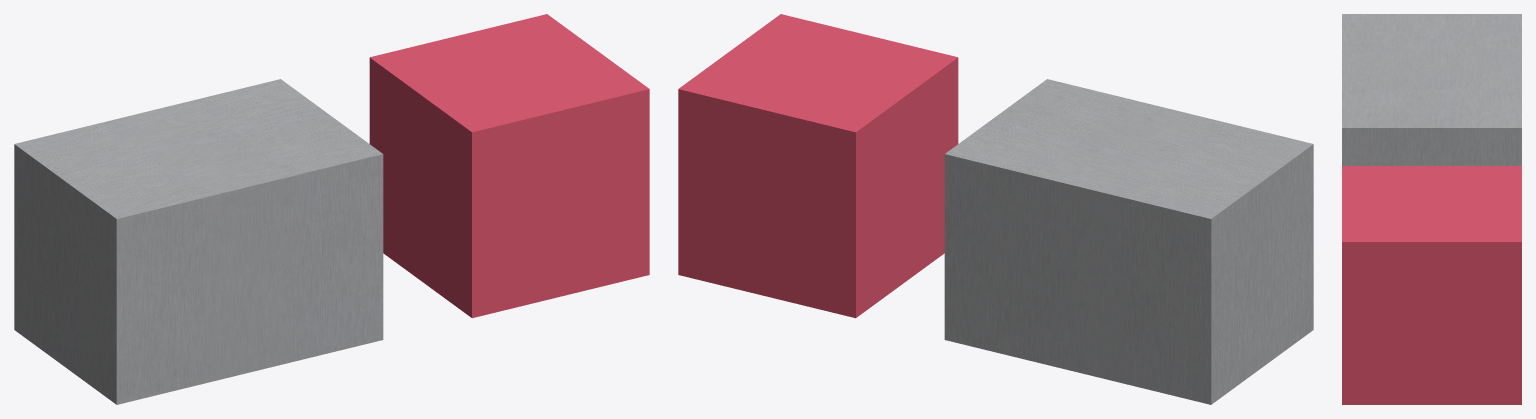
The picture shows the model from 3 angles, left to right: view 1: azimuth 30°, elevation 25°; view 2: azimuth 150°, elevation 25°; view 3: azimuth 270°, elevation 25°; orthographic projection. The views are drawn at different scales.
Parts seen in each view (by area): view 1: Cube, Cube.001; view 2: Cube, Cube.001; view 3: Cube.001, Cube.
Boxes of the visible parts, x1,y1,x2,y2 form: Cube: (14, 79, 383, 404); Cube.001: (369, 14, 649, 318); Cube: (944, 79, 1313, 404); Cube.001: (678, 14, 958, 318); Cube.001: (1342, 166, 1521, 404); Cube: (1342, 14, 1521, 165).
Size of the model in its own units: 6 by 2 by 2.
2 materials, 1 textured.
